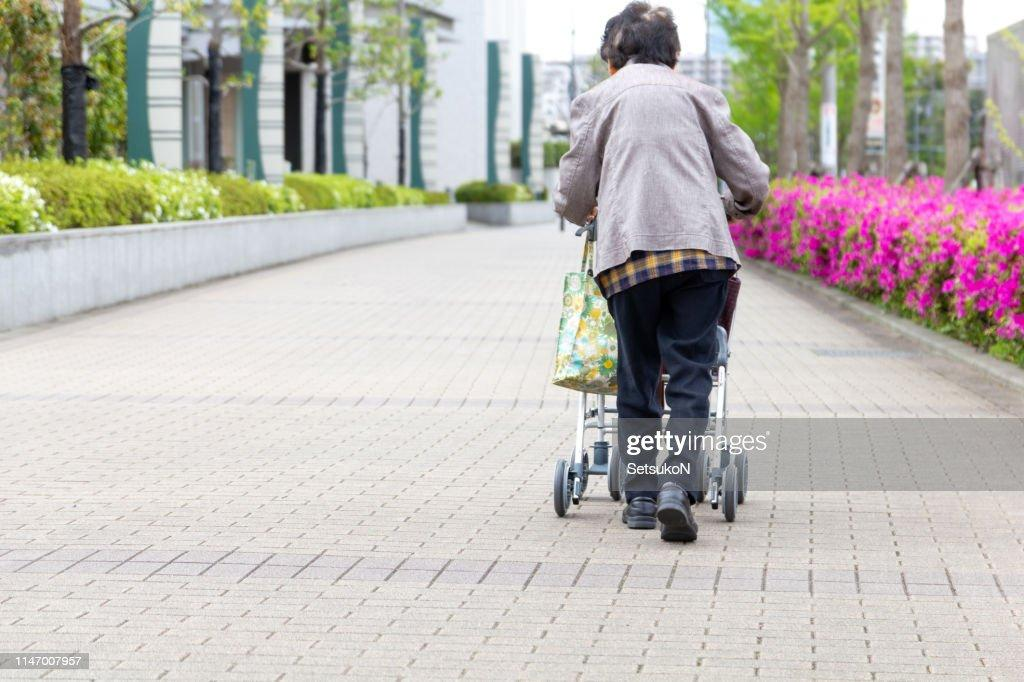walking_frame: (552, 2, 749, 542)
